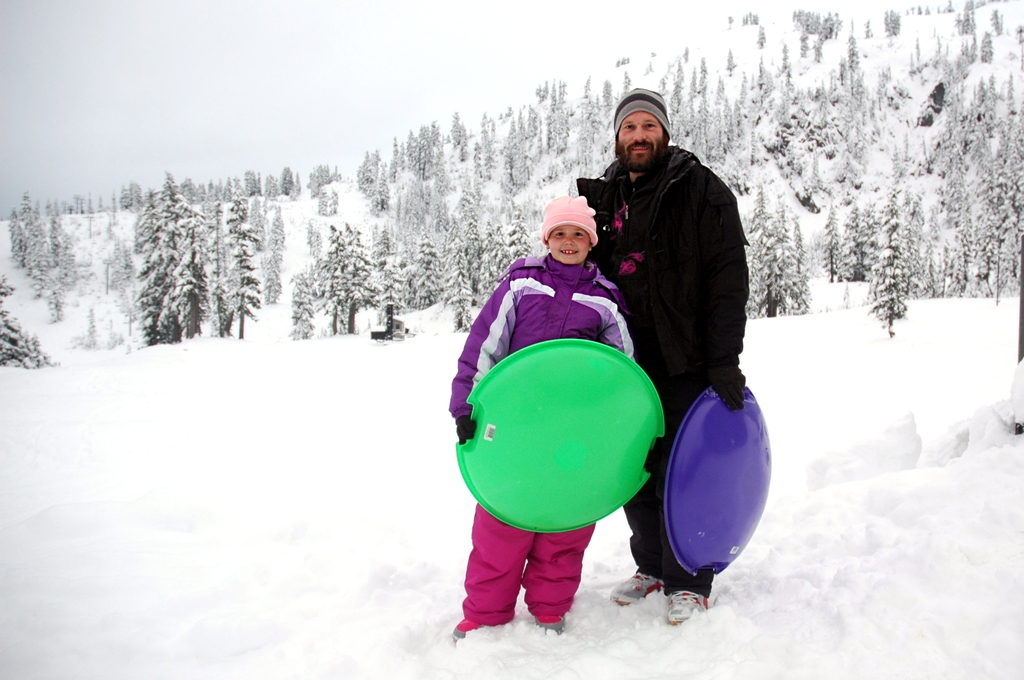Person: (576, 87, 750, 625), (448, 195, 639, 642)
